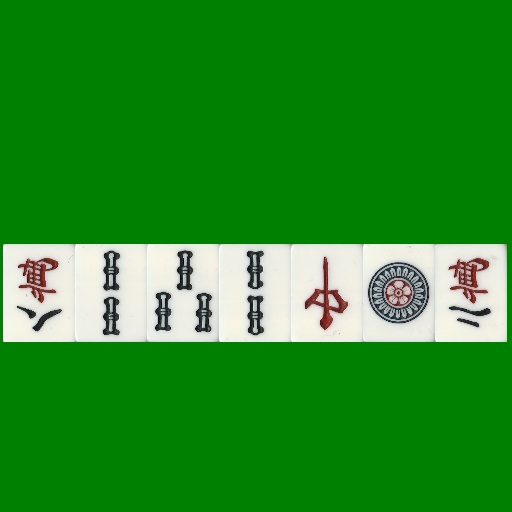1p: (363, 244, 435, 342)
2m: (435, 244, 507, 342)
2s: (75, 244, 147, 342), (219, 244, 291, 342)
3s: (147, 244, 219, 342)
8m: (3, 244, 75, 342)
tyun: (291, 244, 363, 342)
